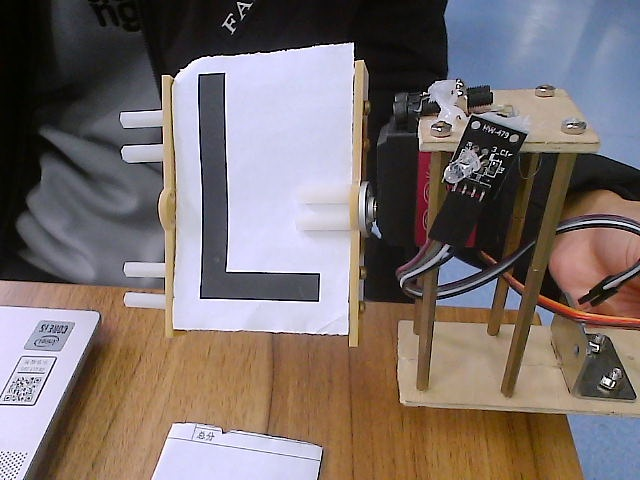L: (92, 13, 437, 371)
